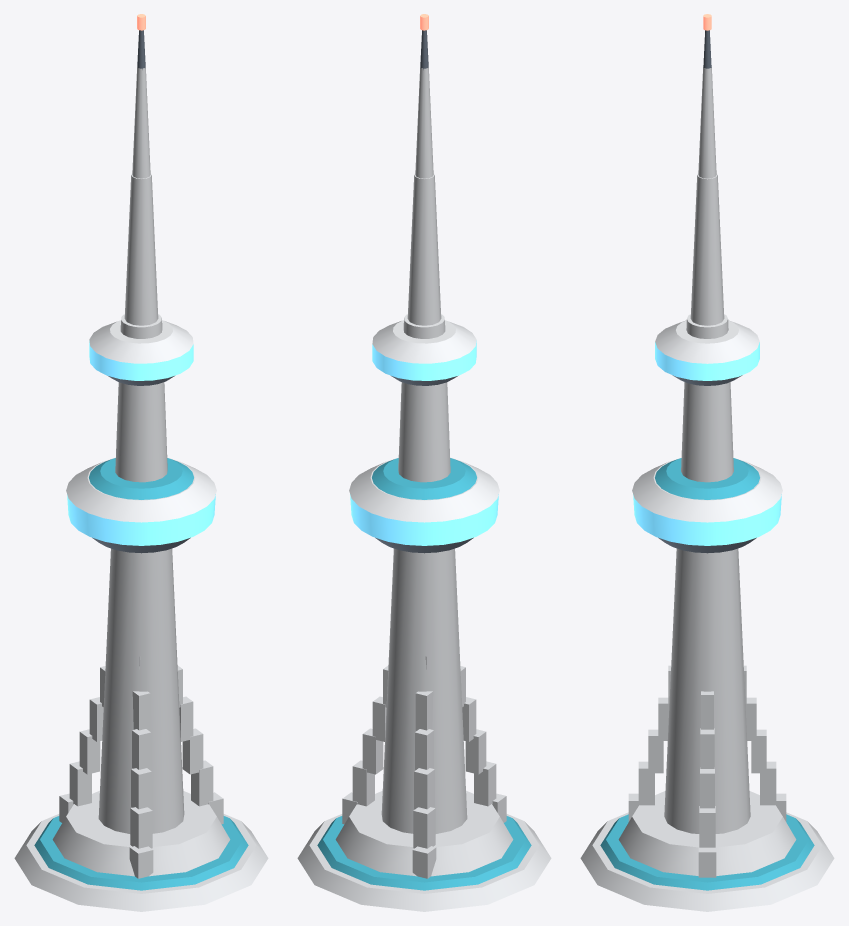
The model's file is tashkent.glb.
The picture shows the model from 3 angles, left to right: view 1: azimuth 30°, elevation 25°; view 2: azimuth 150°, elevation 25°; view 3: azimuth 270°, elevation 25°; orthographic projection.
Visible parts, largest first — view 1: TashkentTVTowerRoot; view 2: TashkentTVTowerRoot; view 3: TashkentTVTowerRoot.
Part boxes in pixels (<box>): TashkentTVTowerRoot: <box>14,14,268,911</box>; TashkentTVTowerRoot: <box>297,14,551,911</box>; TashkentTVTowerRoot: <box>580,14,834,911</box>.
Size of the model in its own units: 32 by 117 by 32.
